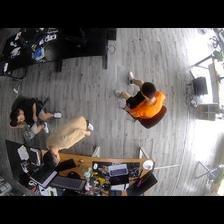normal: (111, 70, 167, 126), (7, 94, 60, 133)
